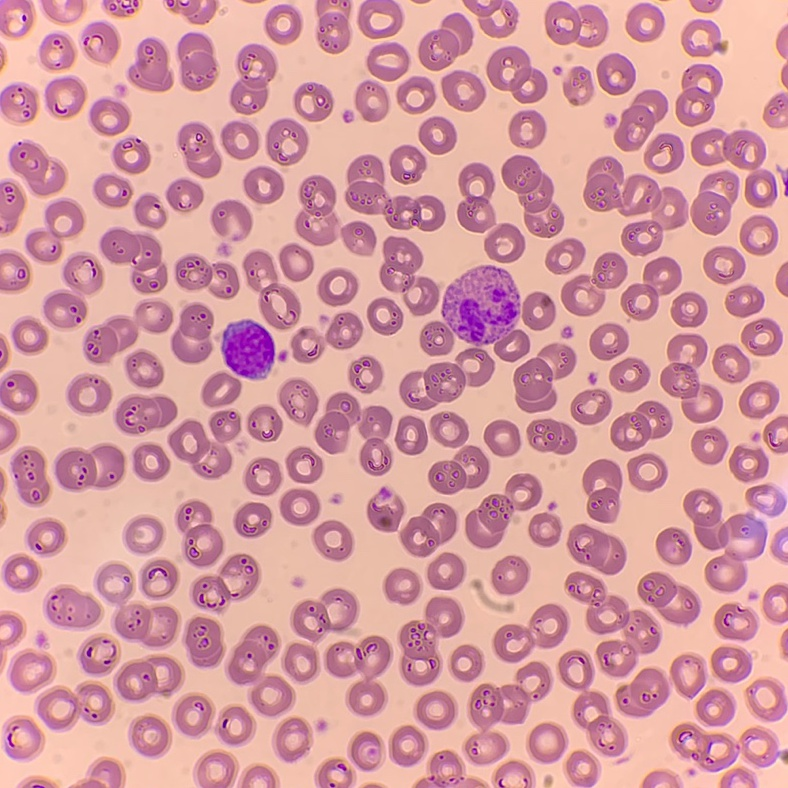RBC: (420, 265, 529, 361), (584, 157, 687, 254), (566, 572, 660, 676), (684, 489, 766, 592), (345, 155, 444, 230), (559, 651, 626, 756), (96, 564, 179, 647), (691, 129, 776, 207), (226, 625, 294, 716), (400, 347, 494, 409), (399, 597, 463, 685), (465, 474, 541, 548), (84, 301, 172, 363), (660, 334, 722, 422), (325, 636, 392, 715), (470, 662, 551, 727), (671, 723, 777, 771), (502, 156, 563, 237), (380, 237, 438, 315), (100, 228, 167, 293), (244, 251, 300, 328), (494, 604, 568, 662), (514, 344, 575, 412), (192, 554, 259, 612), (621, 257, 681, 319), (25, 198, 83, 262), (168, 420, 231, 478), (36, 683, 113, 730), (291, 589, 358, 640), (487, 46, 547, 102), (54, 444, 124, 491), (638, 572, 700, 624), (221, 319, 274, 379), (230, 44, 276, 113), (114, 656, 183, 702), (615, 90, 667, 150), (177, 500, 223, 566), (419, 13, 472, 70), (400, 503, 457, 556), (9, 142, 65, 195), (691, 171, 738, 234), (611, 401, 671, 450), (568, 524, 625, 574), (429, 446, 489, 493), (676, 64, 721, 125), (545, 2, 607, 46), (175, 255, 238, 298), (296, 176, 335, 245), (315, 393, 360, 452), (616, 668, 669, 717), (44, 586, 101, 629), (458, 163, 494, 231), (171, 304, 212, 363), (115, 395, 176, 434), (178, 122, 221, 177), (583, 460, 621, 522), (128, 38, 172, 91), (177, 32, 216, 90), (11, 447, 49, 506), (359, 406, 391, 475), (417, 751, 475, 787), (183, 617, 223, 667), (464, 0, 517, 37), (266, 119, 307, 165), (8, 651, 52, 693), (316, 0, 350, 52), (442, 70, 485, 110), (561, 275, 604, 315), (681, 19, 727, 56), (129, 716, 170, 757), (358, 0, 402, 38), (67, 375, 111, 413), (279, 379, 317, 423), (527, 419, 576, 453), (45, 76, 85, 117), (3, 719, 43, 760), (173, 695, 212, 737), (747, 680, 786, 721), (597, 53, 635, 94), (367, 43, 409, 80), (644, 133, 683, 172), (63, 253, 102, 292), (216, 706, 255, 745), (484, 224, 524, 262), (78, 636, 116, 676), (416, 691, 456, 729), (89, 98, 130, 135), (44, 290, 85, 327), (741, 318, 782, 355), (0, 371, 36, 413), (367, 489, 403, 531), (715, 603, 757, 639), (275, 718, 310, 761), (314, 521, 352, 560), (704, 246, 744, 283), (529, 723, 566, 763), (389, 726, 426, 766), (626, 3, 664, 41), (294, 83, 332, 121), (244, 166, 283, 203), (740, 215, 777, 254), (26, 519, 65, 556), (141, 560, 178, 599), (671, 655, 705, 697), (126, 350, 163, 388), (740, 381, 778, 418), (628, 453, 666, 490), (2, 554, 40, 591), (492, 556, 529, 594), (265, 4, 301, 43), (318, 269, 357, 305), (280, 489, 319, 525), (83, 21, 118, 61), (465, 732, 508, 764), (419, 117, 456, 154), (221, 121, 258, 158), (0, 83, 36, 121), (713, 344, 749, 382), (730, 445, 768, 481), (125, 517, 163, 553), (427, 553, 465, 589), (282, 644, 318, 682), (696, 690, 734, 726), (712, 647, 751, 682), (211, 200, 251, 234), (397, 77, 434, 113), (509, 110, 545, 147), (133, 443, 169, 480), (245, 458, 281, 495), (390, 145, 425, 183), (546, 238, 584, 273), (590, 324, 628, 359), (571, 390, 610, 424), (355, 81, 388, 121), (113, 137, 149, 173), (484, 420, 520, 456), (202, 372, 240, 406), (197, 753, 235, 787), (610, 358, 649, 391), (367, 298, 402, 334), (326, 313, 362, 348), (692, 428, 727, 464), (286, 447, 322, 482), (656, 528, 691, 564), (234, 503, 271, 537), (40, 33, 74, 69), (384, 569, 420, 603), (93, 174, 131, 206), (671, 292, 706, 326), (280, 244, 313, 280), (522, 293, 555, 329), (349, 356, 382, 392), (431, 413, 467, 446), (166, 179, 203, 211), (350, 732, 381, 770), (0, 180, 24, 229), (746, 485, 785, 515), (0, 250, 29, 290), (593, 253, 626, 288), (12, 319, 47, 352), (248, 406, 281, 441), (0, 0, 32, 36), (450, 645, 482, 681), (167, 0, 217, 23), (726, 285, 763, 316), (396, 417, 427, 454), (341, 222, 375, 255), (566, 751, 597, 786), (563, 67, 592, 104), (292, 328, 323, 362), (134, 194, 165, 227), (316, 759, 352, 787), (529, 514, 560, 546), (763, 584, 787, 622), (210, 411, 240, 441), (90, 760, 121, 787), (764, 93, 787, 127), (720, 768, 757, 787), (763, 415, 787, 442), (642, 771, 682, 787), (0, 614, 23, 641), (103, 0, 137, 16), (0, 416, 16, 449), (250, 766, 275, 787), (772, 528, 787, 561), (691, 0, 721, 12), (776, 26, 787, 57), (776, 264, 787, 294), (22, 779, 54, 787), (503, 761, 525, 772), (42, 0, 56, 15), (773, 440, 787, 453), (81, 780, 102, 787), (781, 632, 787, 654), (781, 66, 787, 84), (67, 0, 82, 7), (779, 749, 787, 762), (36, 636, 46, 646), (116, 85, 124, 95), (344, 111, 352, 121), (606, 115, 614, 125), (782, 170, 787, 183), (0, 639, 6, 649), (0, 509, 4, 520), (0, 479, 4, 489)
